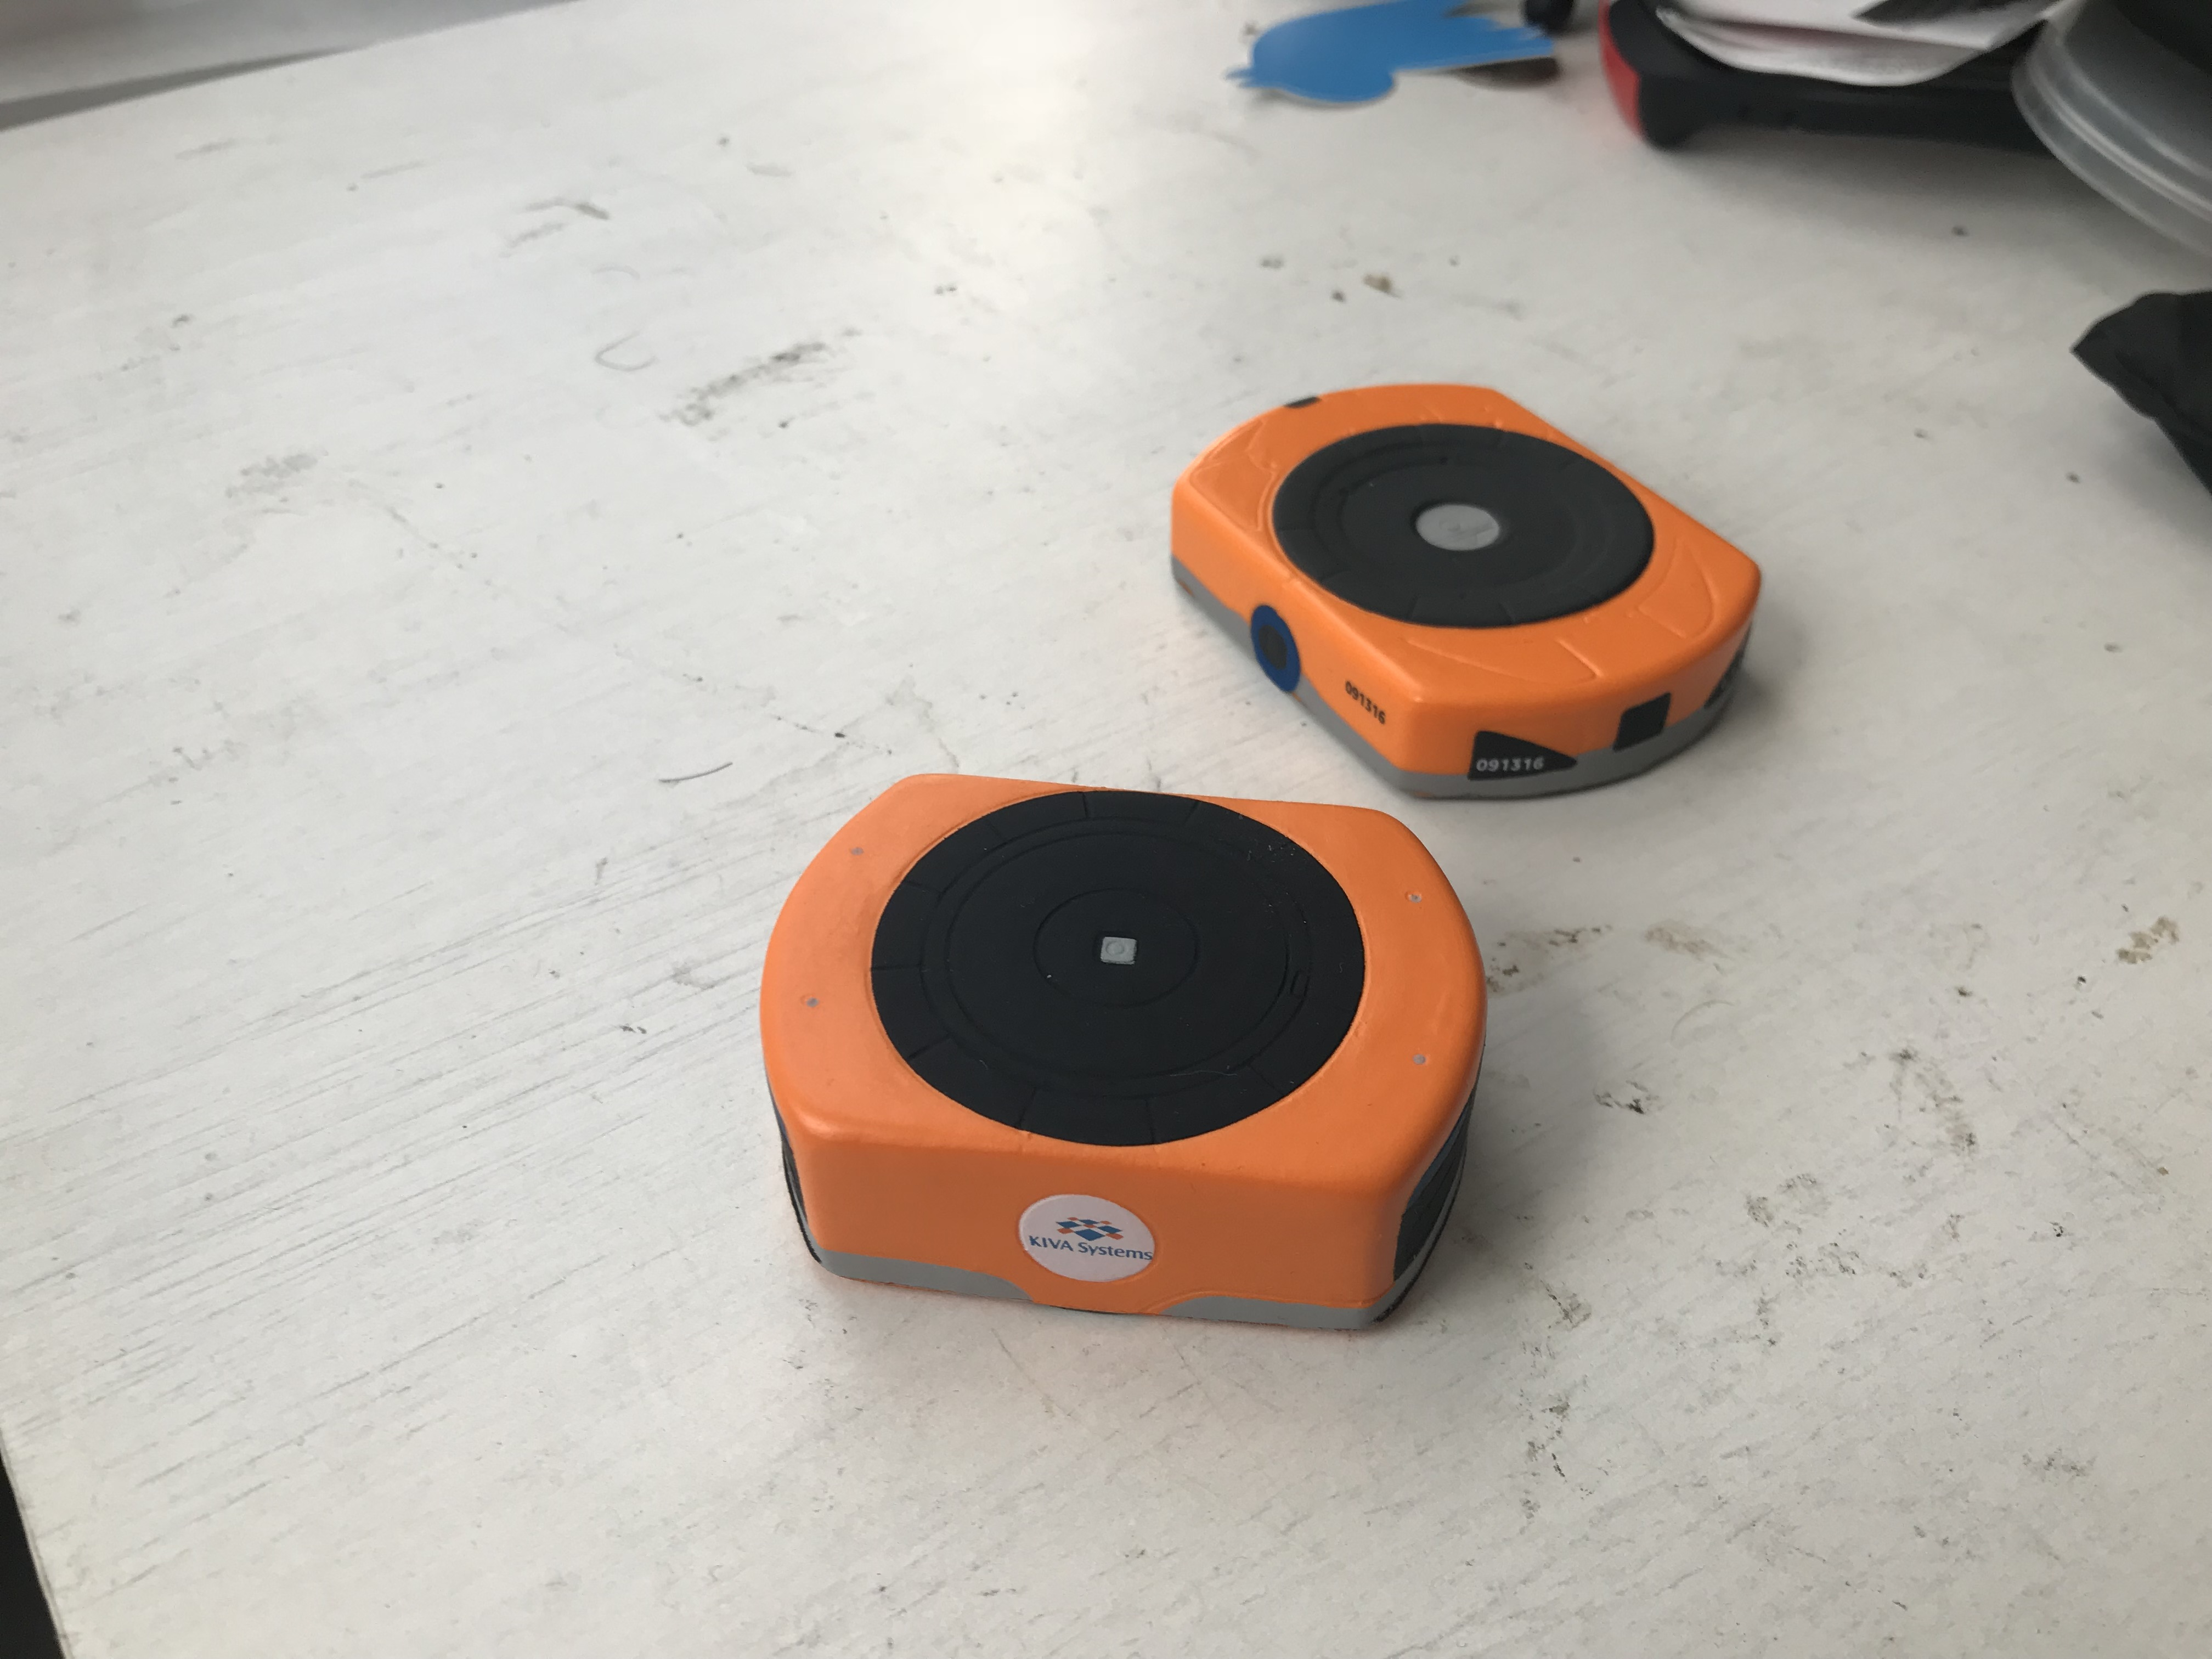amazon_bot: (721, 765, 1503, 1338), (1169, 376, 1785, 800)
